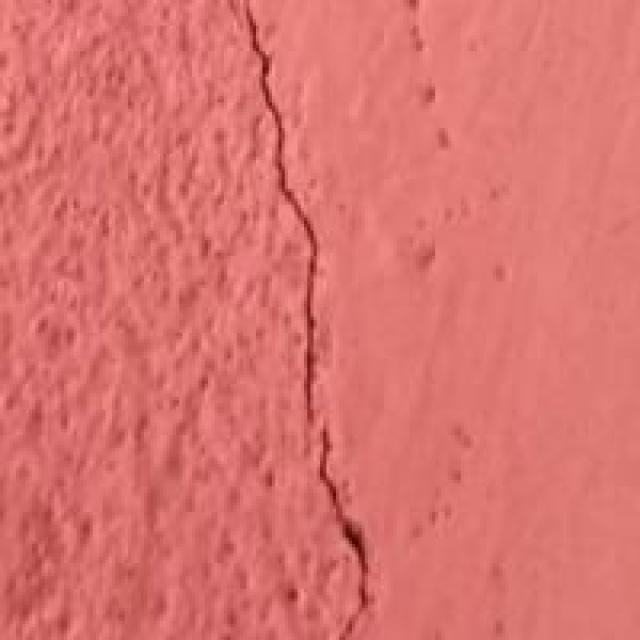Crack: (224, 9, 432, 636)
